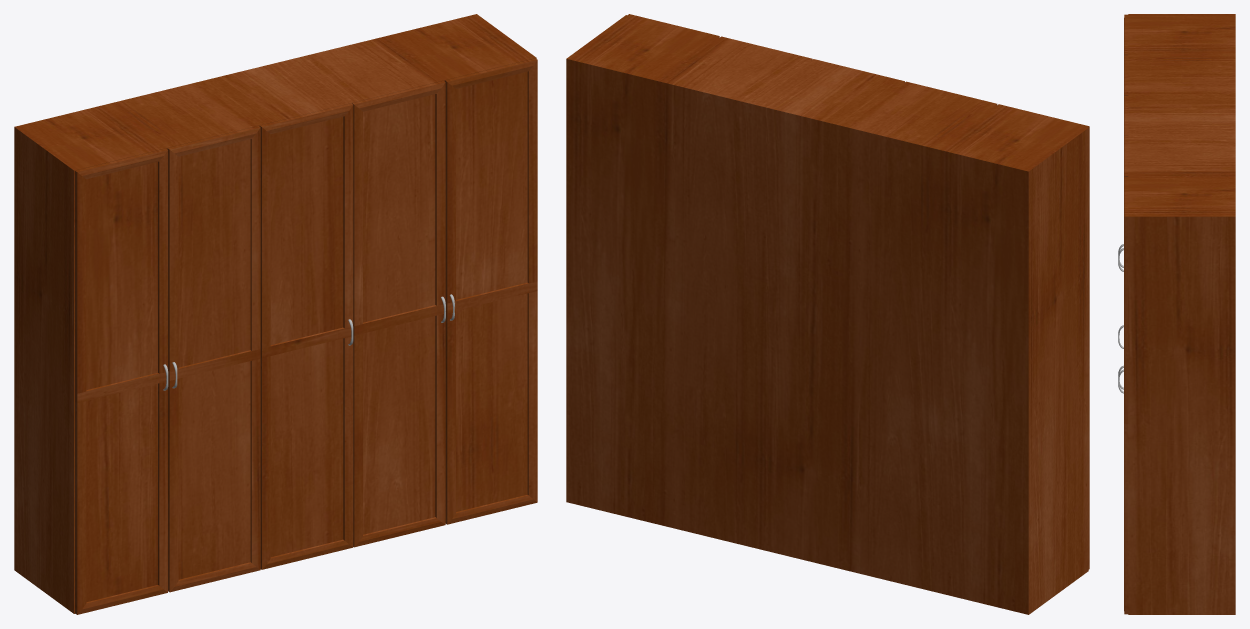
Rendered from wardrobe1.glb.
3 renders of one model, left to right at view 1: azimuth 30°, elevation 25°; view 2: azimuth 150°, elevation 25°; view 3: azimuth 270°, elevation 25°, orthographic. The views are drawn at different scales.
Parts seen in each view (by area): view 1: wardrobe_Cube.025; view 2: wardrobe_Cube.025; view 3: wardrobe_Cube.025.
Part boxes in pixels (x1,y1,x2,y2): wardrobe_Cube.025: (14, 14, 537, 614); wardrobe_Cube.025: (566, 14, 1089, 614); wardrobe_Cube.025: (1124, 14, 1235, 614).
Size of the model in its own units: 2.17 by 1.99 by 0.5323.
Materials: 2 (1 with a texture image).
